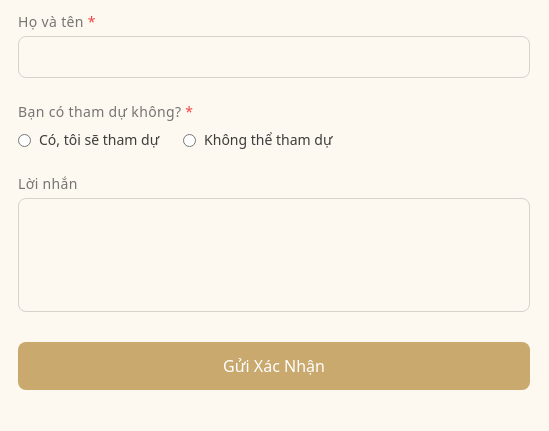
Test: RSVPForm › shows validation error when attending is not selected
The width and height of the screenshot is (549, 431).
In the field labelled "Họ và tên *": (274, 57) [18,36,530,78], type "Nguyễn Văn A"
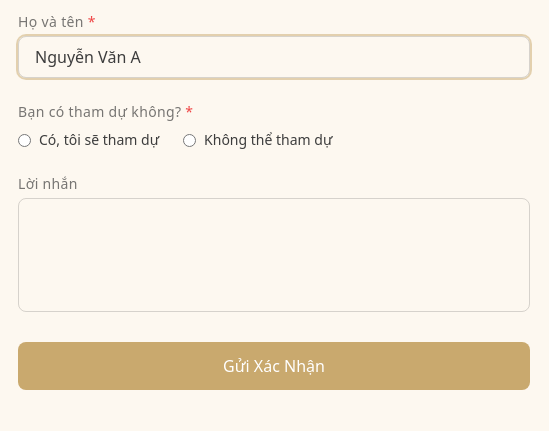
Click the button "Gửi Xác Nhận": (274, 366) [18,342,530,390]
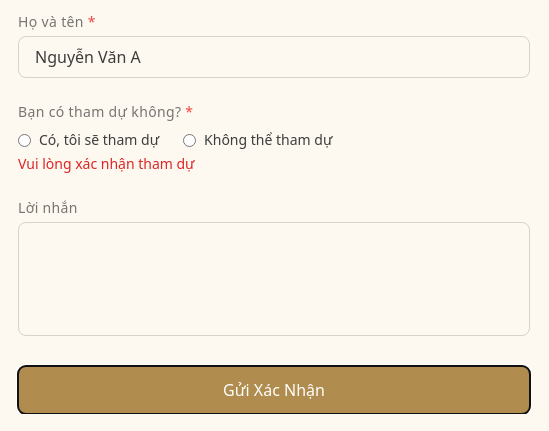
expect the text "Vui lòng xác nhận tham dự" is shown: met, box [18,154,195,173]
